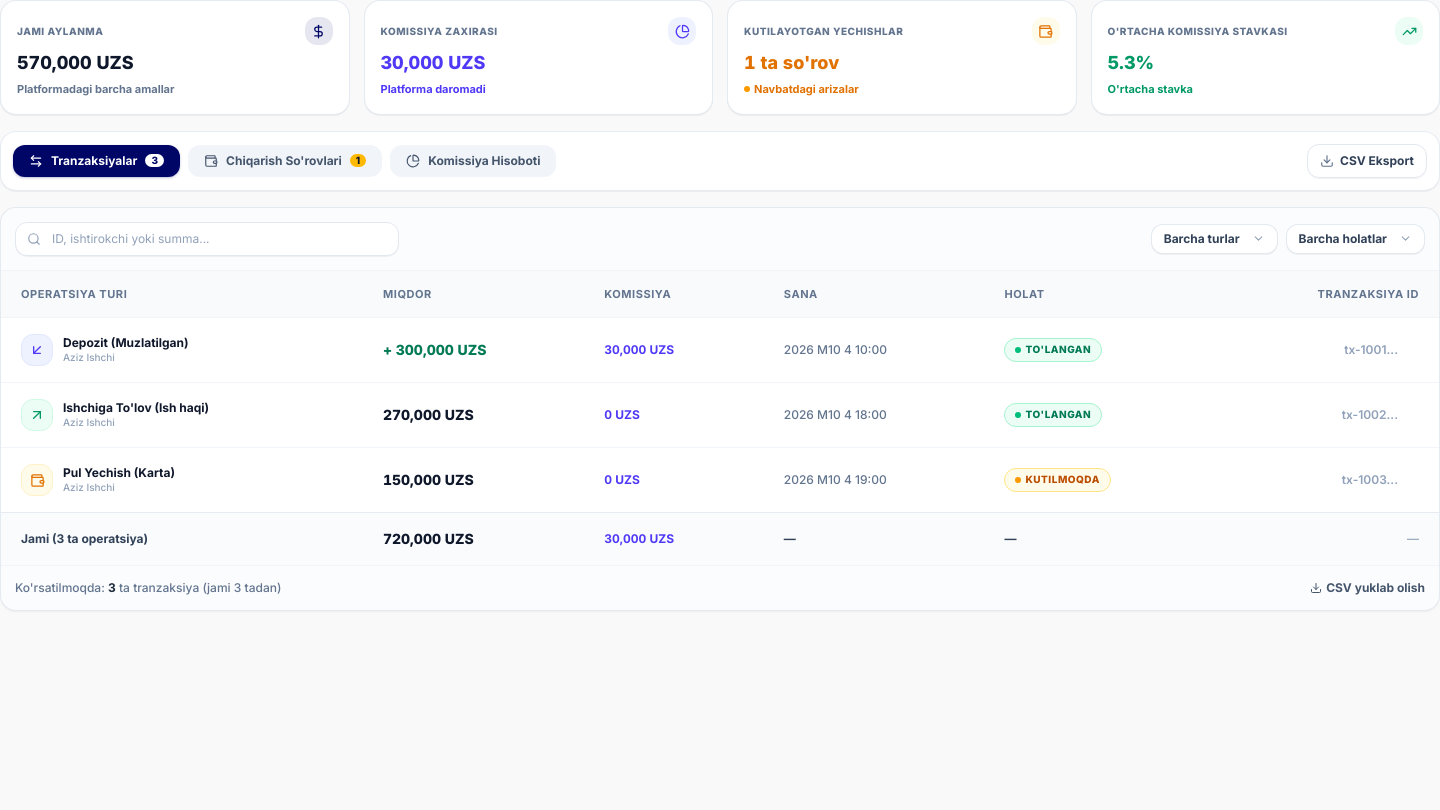
Test case: AdminTransactions — Ledger & Finance Management › switches to withdrawals tab and shows decision buttons for pending withdrawal
Click the button "Chiqarish So'rovlari 1" at (285, 160), box [188, 144, 382, 176]
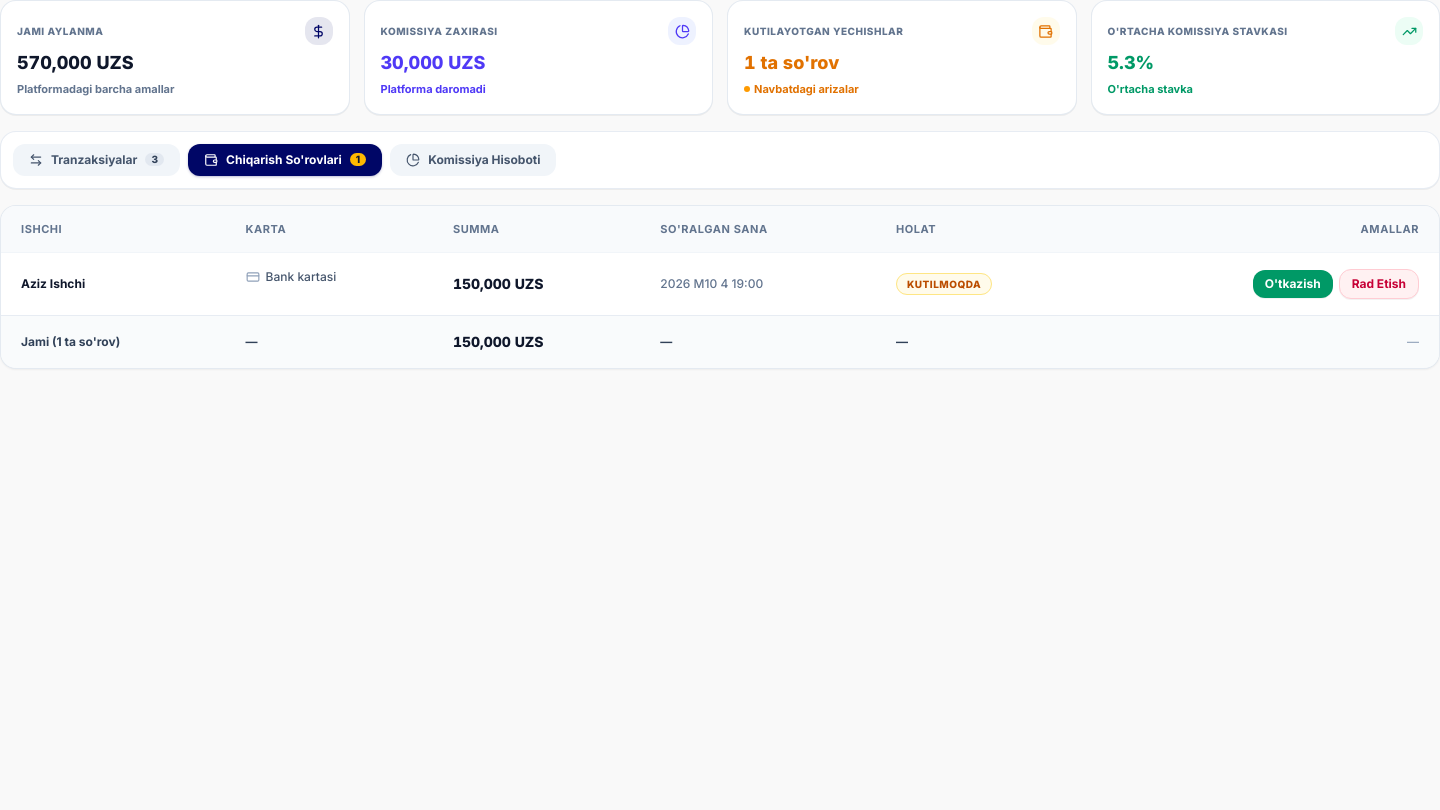
Now the button "O'tkazish" is shown, box [1253, 270, 1333, 298]
Now the button "Rad Etish" is shown, box [1339, 269, 1419, 299]
